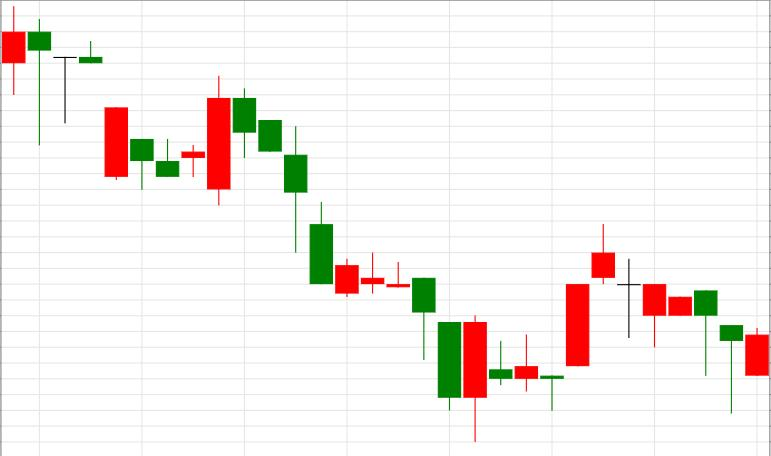bullish_engulfing_rise: (234, 88, 486, 441)
